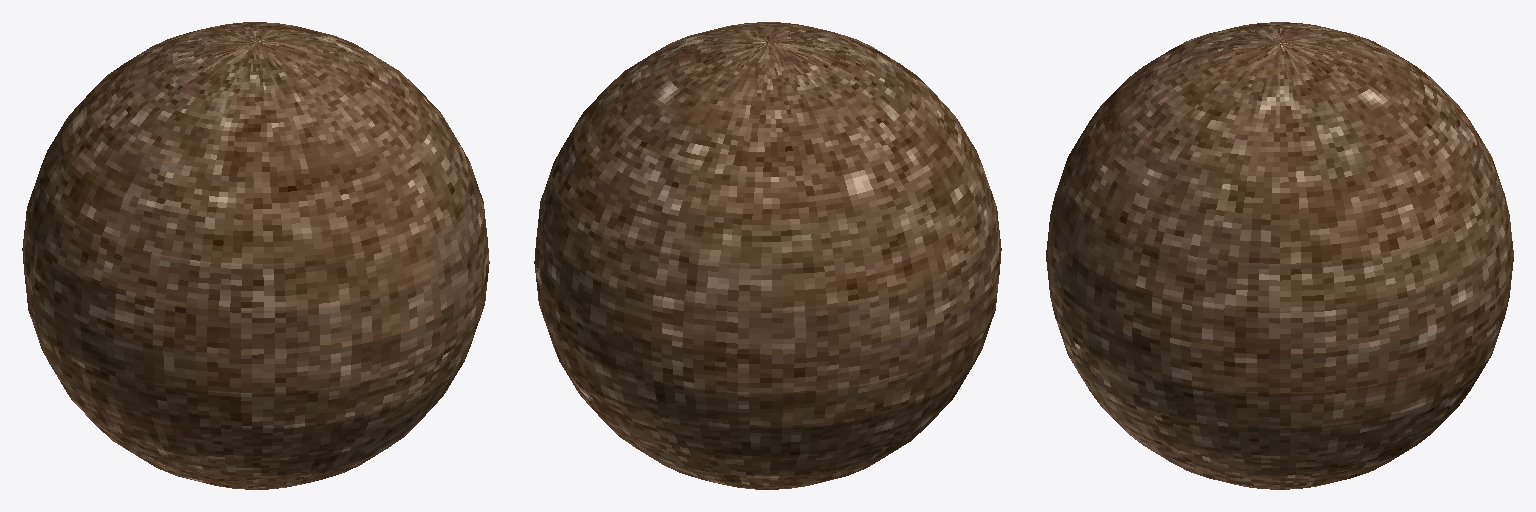
3 renders of one model, left to right at view 1: azimuth 30°, elevation 25°; view 2: azimuth 150°, elevation 25°; view 3: azimuth 270°, elevation 25°, orthographic.
Parts seen in each view (by area): view 1: Sphere_Sphere.001; view 2: Sphere_Sphere.001; view 3: Sphere_Sphere.001.
Part boxes in pixels (left/top/right/bottom): Sphere_Sphere.001: left=22, top=22, right=489, bottom=489; Sphere_Sphere.001: left=534, top=22, right=1001, bottom=489; Sphere_Sphere.001: left=1046, top=22, right=1513, bottom=489.
Bounding box in the file's own units: 2 × 2.01 × 2.
1 materials, 1 textured.